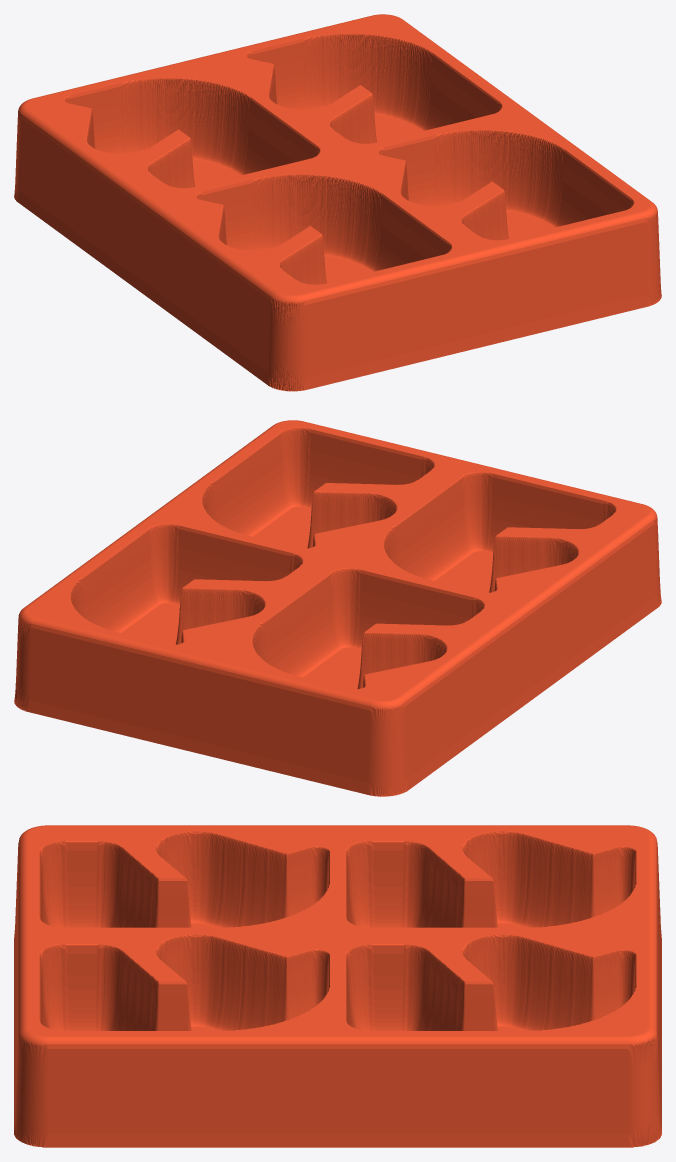
Rendered from mold.glb.
3 views of the same model, one above another, from view 1: azimuth 30°, elevation 25°; view 2: azimuth 150°, elevation 25°; view 3: azimuth 270°, elevation 25° (orthographic). The views are drawn at different scales.
Parts seen in each view (by area): view 1: geometry_0; view 2: geometry_0; view 3: geometry_0.
Boxes of the visible parts, bbox=[...] form: geometry_0: bbox=[14, 14, 661, 391]; geometry_0: bbox=[14, 420, 661, 796]; geometry_0: bbox=[14, 825, 661, 1147].
Bounding box in the file's own units: 0.1391 × 0.031 × 0.1721.
